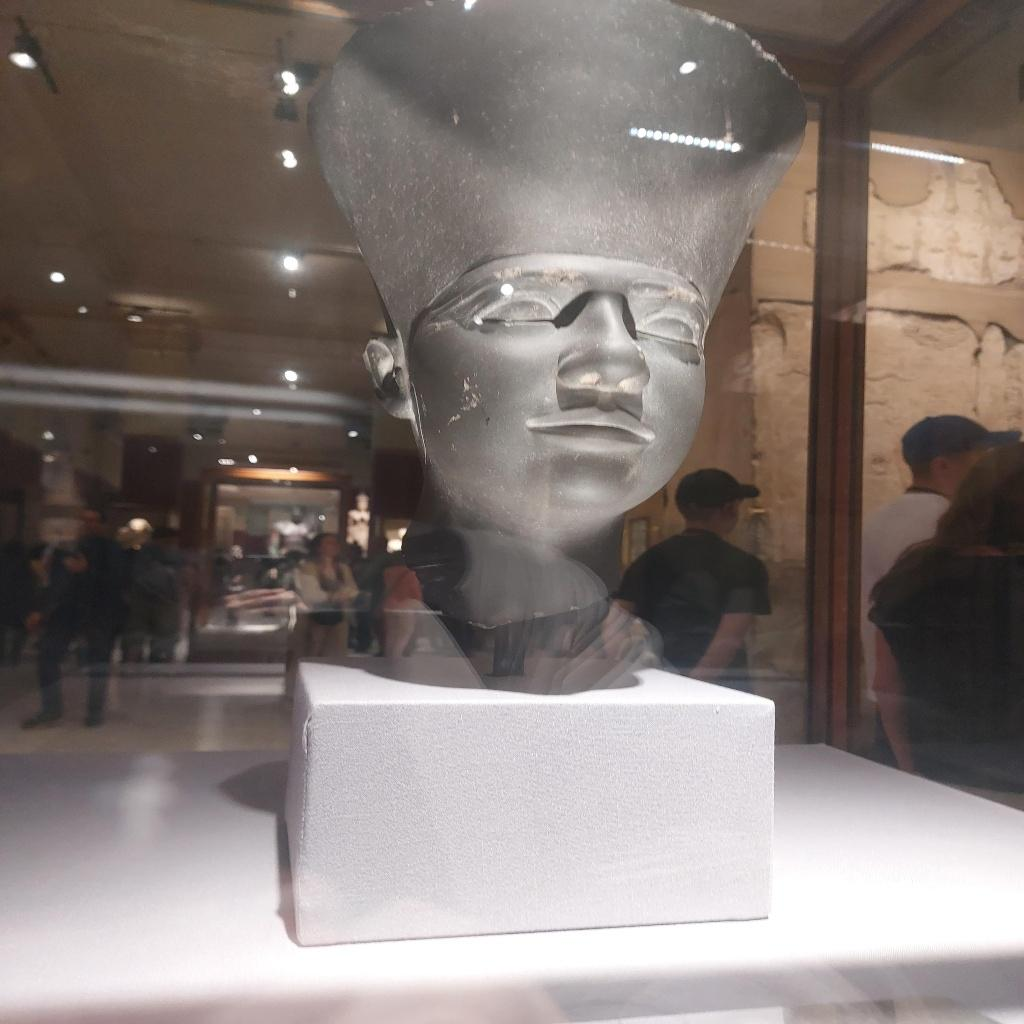Head of Userkaf: (302, 2, 810, 544)
